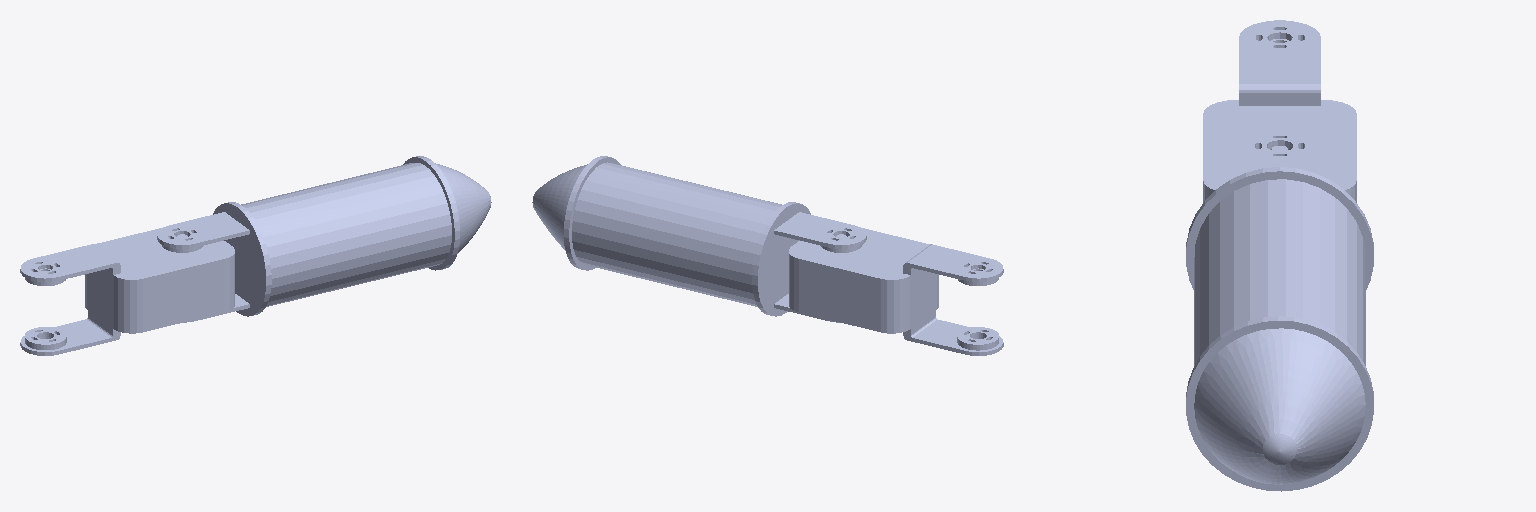
robot.urdf — test:
<?xml version="1.0" encoding="utf-8"?>
<!-- This URDF was automatically created by SolidWorks to URDF Exporter! Originally created by Stephen Brawner (brawner@gmail.com) 
     Commit Version: 1.5.1-0-g916b5db  Build Version: 1.5.7152.31018
     For more information, please see http://wiki.ros.org/sw_urdf_exporter -->
<robot
  name="test">
  <link
    name="base_link">
    <inertial>
      <origin
        xyz="-0.0049556 -2.347E-18 -0.00025"
        rpy="0 0 0" />
      <mass
        value="0.072896" />
      <inertia
        ixx="3.4934E-05"
        ixy="-6.1633E-22"
        ixz="2.7899E-21"
        iyy="5.8096E-05"
        iyz="7.3998E-22"
        izz="5.7019E-05" />
    </inertial>
    <visual>
      <origin
        xyz="0 0 0"
        rpy="0 0 0" />
      <geometry>
        <mesh
          filename="package://test/meshes/base_link.STL" />
      </geometry>
      <material
        name="">
        <color
          rgba="0.79216 0.81961 0.93333 1" />
      </material>
    </visual>
    <collision>
      <origin
        xyz="0 0 0"
        rpy="0 0 0" />
      <geometry>
        <mesh
          filename="package://test/meshes/base_link.STL" />
      </geometry>
    </collision>
  </link>
  <link
    name="link1">
    <inertial>
      <origin
        xyz="-0.0157146861571056 -3.40932693110971E-08 -7.9572084394763E-05"
        rpy="0 0 0" />
      <mass
        value="0.0861353887155735" />
      <inertia
        ixx="1.99776586952395E-05"
        ixy="-1.72087942736075E-10"
        ixz="-5.06437416027453E-08"
        iyy="4.35086698833571E-05"
        iyz="-6.5121250017655E-13"
        izz="4.97203166390526E-05" />
    </inertial>
    <visual>
      <origin
        xyz="0 0 0"
        rpy="0 0 0" />
      <geometry>
        <mesh
          filename="package://test/meshes/link1.STL" />
      </geometry>
      <material
        name="">
        <color
          rgba="0.792156862745098 0.819607843137255 0.933333333333333 1" />
      </material>
    </visual>
    <collision>
      <origin
        xyz="0 0 0"
        rpy="0 0 0" />
      <geometry>
        <mesh
          filename="package://test/meshes/link1.STL" />
      </geometry>
    </collision>
  </link>
  <joint
    name="joint1"
    type="revolute">
    <origin
      xyz="-0.083 0 0"
      rpy="0 0 0" />
    <parent
      link="base_link" />
    <child
      link="link1" />
    <axis
      xyz="0 0 -1" />
    <limit
      lower="-1.5"
      upper="1.5"
      effort="1.5"
      velocity="1" />
  </joint>
</robot>

--- Render facts (derived) ---
Views: 3 orthographic renders of the robot side by side, from view 1: azimuth 30°, elevation 25°; view 2: azimuth 150°, elevation 25°; view 3: azimuth 270°, elevation 25°.
Model test with 2 links and 1 joints (1 revolute), rooted at base_link, posed every joint at zero.
Visible links, largest first — view 1: base_link, link1; view 2: base_link, link1; view 3: base_link, link1.
Boxes of the visible links, x1,y1,x2,y2 form: base_link: [157, 156, 491, 322]; link1: [20, 228, 234, 355]; base_link: [532, 156, 866, 322]; link1: [789, 227, 1003, 355]; base_link: [1186, 129, 1373, 491]; link1: [1203, 20, 1356, 202].
Bounding box of the posed robot: 0.2546 × 0.0549 × 0.055 m (x, y, z).
2 mesh visuals loaded from 2 distinct referenced files (2 binary STL).
